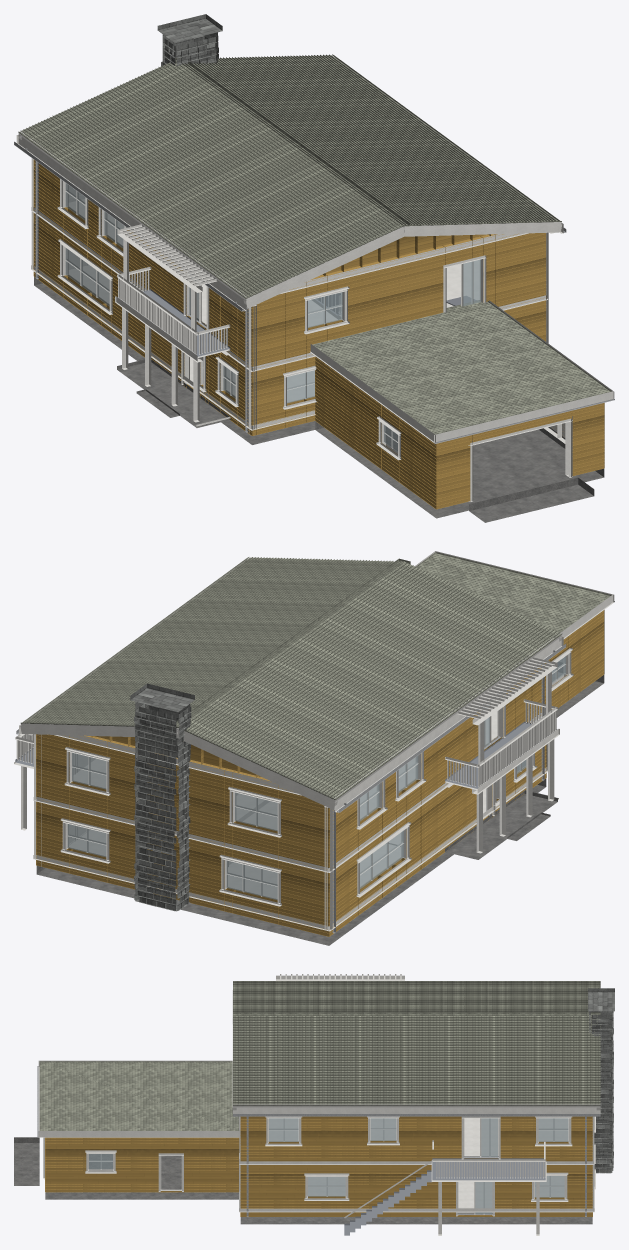
File: house-yellow-shell.glb
3 views of the same model, one above another, from view 1: azimuth 30°, elevation 25°; view 2: azimuth 150°, elevation 25°; view 3: azimuth 270°, elevation 25° (orthographic). The views are drawn at different scales.
Visible parts, largest first — view 1: world-studio.house.yellow.shell.shingle, world-studio.house.yellow.shell.siding, world-studio.house.yellow.shell.trim, world-studio.house.yellow.shell.concrete, world-studio.house.yellow.shell.glass, world-studio.house.yellow.shell.masonry, world-studio.house.yellow.shell.metal, world-studio.house.yellow.shell.door; view 2: world-studio.house.yellow.shell.shingle, world-studio.house.yellow.shell.siding, world-studio.house.yellow.shell.trim, world-studio.house.yellow.shell.masonry, world-studio.house.yellow.shell.glass, world-studio.house.yellow.shell.concrete, world-studio.house.yellow.shell.metal, world-studio.house.yellow.shell.door; view 3: world-studio.house.yellow.shell.shingle, world-studio.house.yellow.shell.siding, world-studio.house.yellow.shell.trim, world-studio.house.yellow.shell.concrete, world-studio.house.yellow.shell.glass, world-studio.house.yellow.shell.masonry, world-studio.house.yellow.shell.door, world-studio.house.yellow.shell.metal.
Part boxes in pixels (x1=…): world-studio.house.yellow.shell.shingle: x1=18, y1=54, x2=611, y2=434; world-studio.house.yellow.shell.siding: x1=33, y1=160, x2=604, y2=509; world-studio.house.yellow.shell.trim: x1=16, y1=57, x2=614, y2=501; world-studio.house.yellow.shell.concrete: x1=34, y1=276, x2=604, y2=522; world-studio.house.yellow.shell.glass: x1=65, y1=183, x2=480, y2=451; world-studio.house.yellow.shell.masonry: x1=157, y1=14, x2=222, y2=66; world-studio.house.yellow.shell.metal: x1=14, y1=141, x2=614, y2=443; world-studio.house.yellow.shell.door: x1=117, y1=289, x2=476, y2=356; world-studio.house.yellow.shell.shingle: x1=20, y1=552, x2=611, y2=799; world-studio.house.yellow.shell.siding: x1=36, y1=610, x2=604, y2=936; world-studio.house.yellow.shell.trim: x1=14, y1=551, x2=614, y2=931; world-studio.house.yellow.shell.masonry: x1=130, y1=683, x2=194, y2=911; world-studio.house.yellow.shell.glass: x1=67, y1=656, x2=565, y2=899; world-studio.house.yellow.shell.concrete: x1=36, y1=658, x2=604, y2=945; world-studio.house.yellow.shell.metal: x1=16, y1=601, x2=614, y2=933; world-studio.house.yellow.shell.door: x1=15, y1=721, x2=557, y2=810; world-studio.house.yellow.shell.shingle: x1=39, y1=981, x2=600, y2=1130; world-studio.house.yellow.shell.siding: x1=45, y1=1116, x2=592, y2=1216; world-studio.house.yellow.shell.trim: x1=38, y1=974, x2=600, y2=1235; world-studio.house.yellow.shell.concrete: x1=14, y1=1137, x2=592, y2=1224; world-studio.house.yellow.shell.glass: x1=89, y1=1118, x2=568, y2=1213; world-studio.house.yellow.shell.masonry: x1=588, y1=988, x2=614, y2=1173; world-studio.house.yellow.shell.door: x1=344, y1=1158, x2=545, y2=1235; world-studio.house.yellow.shell.metal: x1=37, y1=1066, x2=600, y2=1216.
Size of the model in its own units: 18.49 by 9.84 by 30.74.
8 materials, 6 textured.
